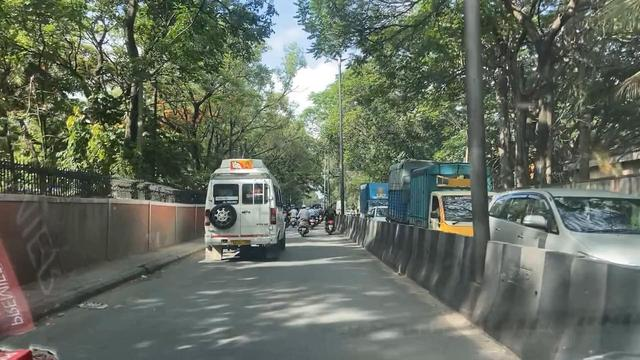HMV: (204, 154, 278, 266)
LMV: (322, 202, 339, 236), (298, 206, 311, 236)
